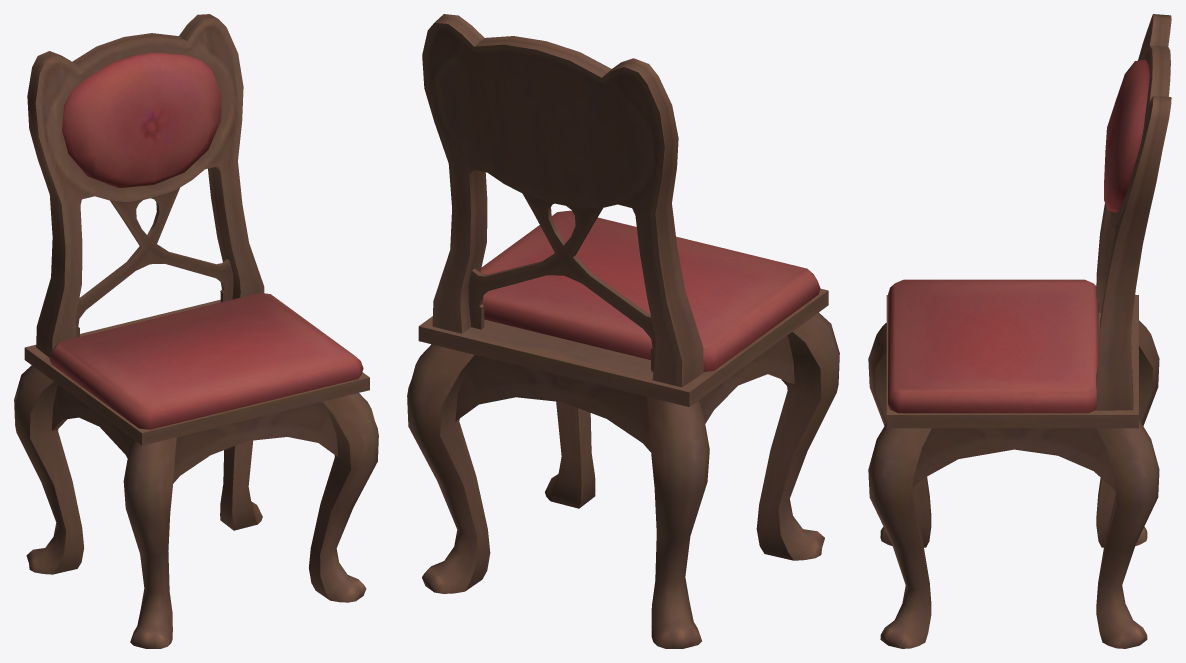
The model's file is Homeworld_Interior_Md_Chair_Prop_LeatherBack_01_Vo.fbx.
3 renders of one model, left to right at view 1: azimuth 30°, elevation 25°; view 2: azimuth 150°, elevation 25°; view 3: azimuth 270°, elevation 25°, orthographic. The views are drawn at different scales.
Visible parts, largest first — view 1: Indoor_Md_Prop_PairChair_Leatherchair_01_Vo; view 2: Indoor_Md_Prop_PairChair_Leatherchair_01_Vo; view 3: Indoor_Md_Prop_PairChair_Leatherchair_01_Vo.
Boxes of the visible parts, x1,y1,x2,y2 form: Indoor_Md_Prop_PairChair_Leatherchair_01_Vo: (14,14,378,648); Indoor_Md_Prop_PairChair_Leatherchair_01_Vo: (407,14,839,648); Indoor_Md_Prop_PairChair_Leatherchair_01_Vo: (868,14,1171,648).
Size of the model in its own units: 0.5546 by 1.05 by 0.543.
Materials: 1 (1 with a texture image).
